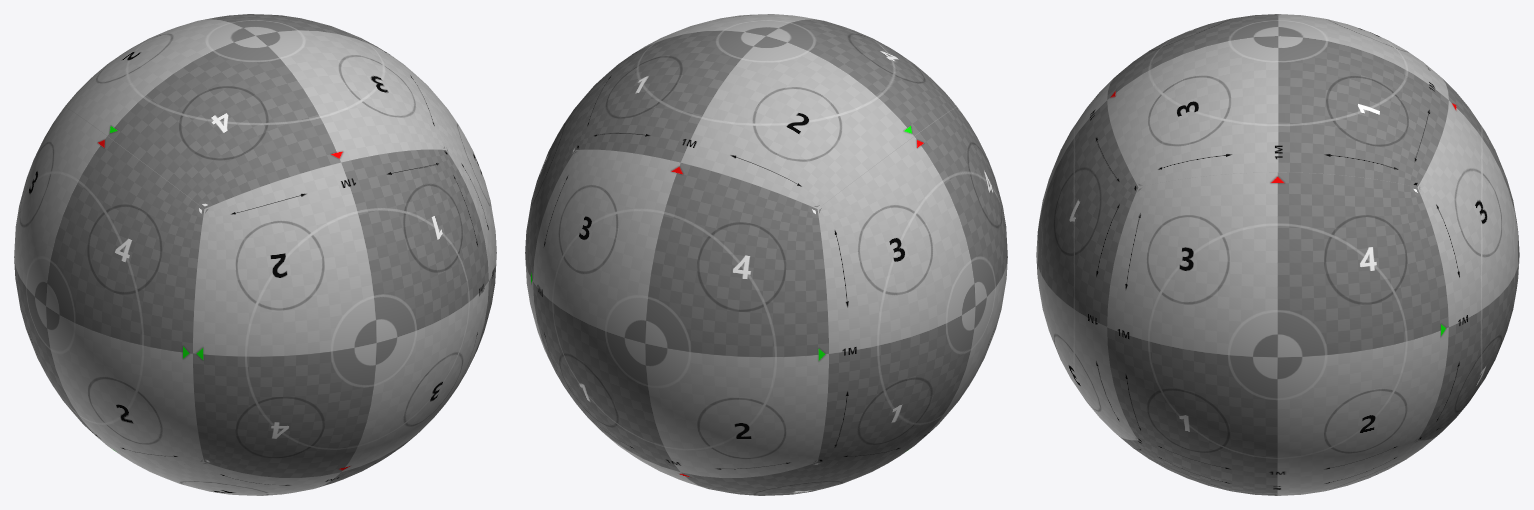
Rendered from QuadSphere.fbx.
3 views of the same model, side by side, from view 1: azimuth 30°, elevation 25°; view 2: azimuth 150°, elevation 25°; view 3: azimuth 270°, elevation 25° (orthographic).
Visible parts, largest first — view 1: QuadSphere_UV_unit_1m; view 2: QuadSphere_UV_unit_1m; view 3: QuadSphere_UV_unit_1m.
Part boxes in pixels (<box>): QuadSphere_UV_unit_1m: <box>14,14,496,495</box>; QuadSphere_UV_unit_1m: <box>525,14,1007,495</box>; QuadSphere_UV_unit_1m: <box>1036,14,1519,495</box>.
Size of the model in its own units: 1.02 by 1.02 by 1.02.
1 material, 1 textured.
